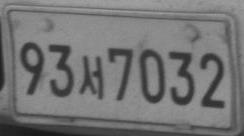0: (139, 48, 166, 103)
2: (199, 51, 226, 108)
3: (168, 50, 195, 106), (48, 43, 74, 98)
7: (107, 47, 134, 100)
9: (19, 40, 45, 95)
서: (78, 55, 104, 100)
